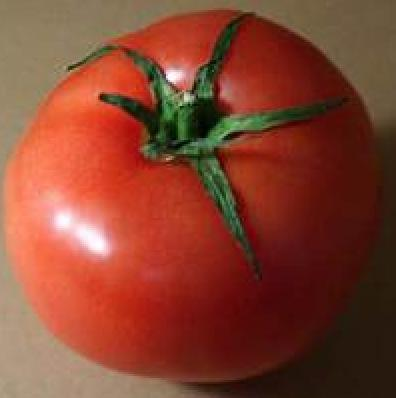tomato: (10, 8, 374, 374)
